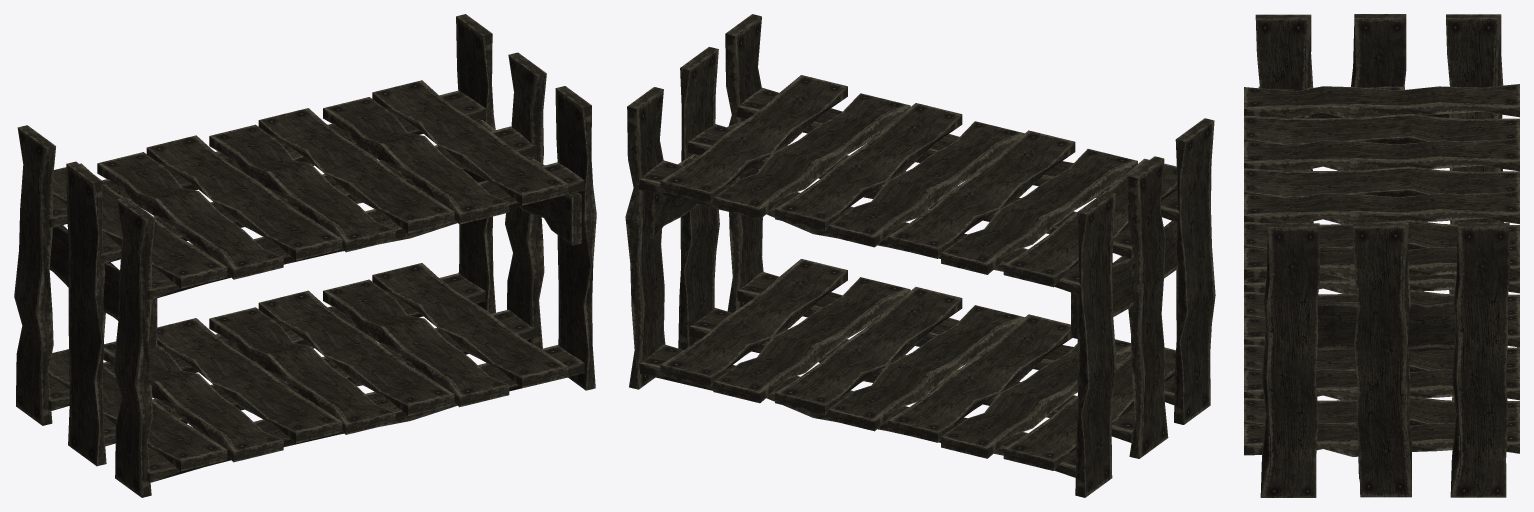
File: wood_rack02.DAE
3 views of the same model, side by side, from view 1: azimuth 30°, elevation 25°; view 2: azimuth 150°, elevation 25°; view 3: azimuth 270°, elevation 25° (orthographic). The views are drawn at different scales.
Visible parts, largest first — view 1: Object002; view 2: Object002; view 3: Object002.
Boxes of the visible parts, bbox=[...] form: Object002: bbox=[14, 14, 596, 497]; Object002: bbox=[625, 14, 1215, 497]; Object002: bbox=[1244, 14, 1519, 497].
Size of the model in its own units: 4.62 by 2.47 by 2.67.
